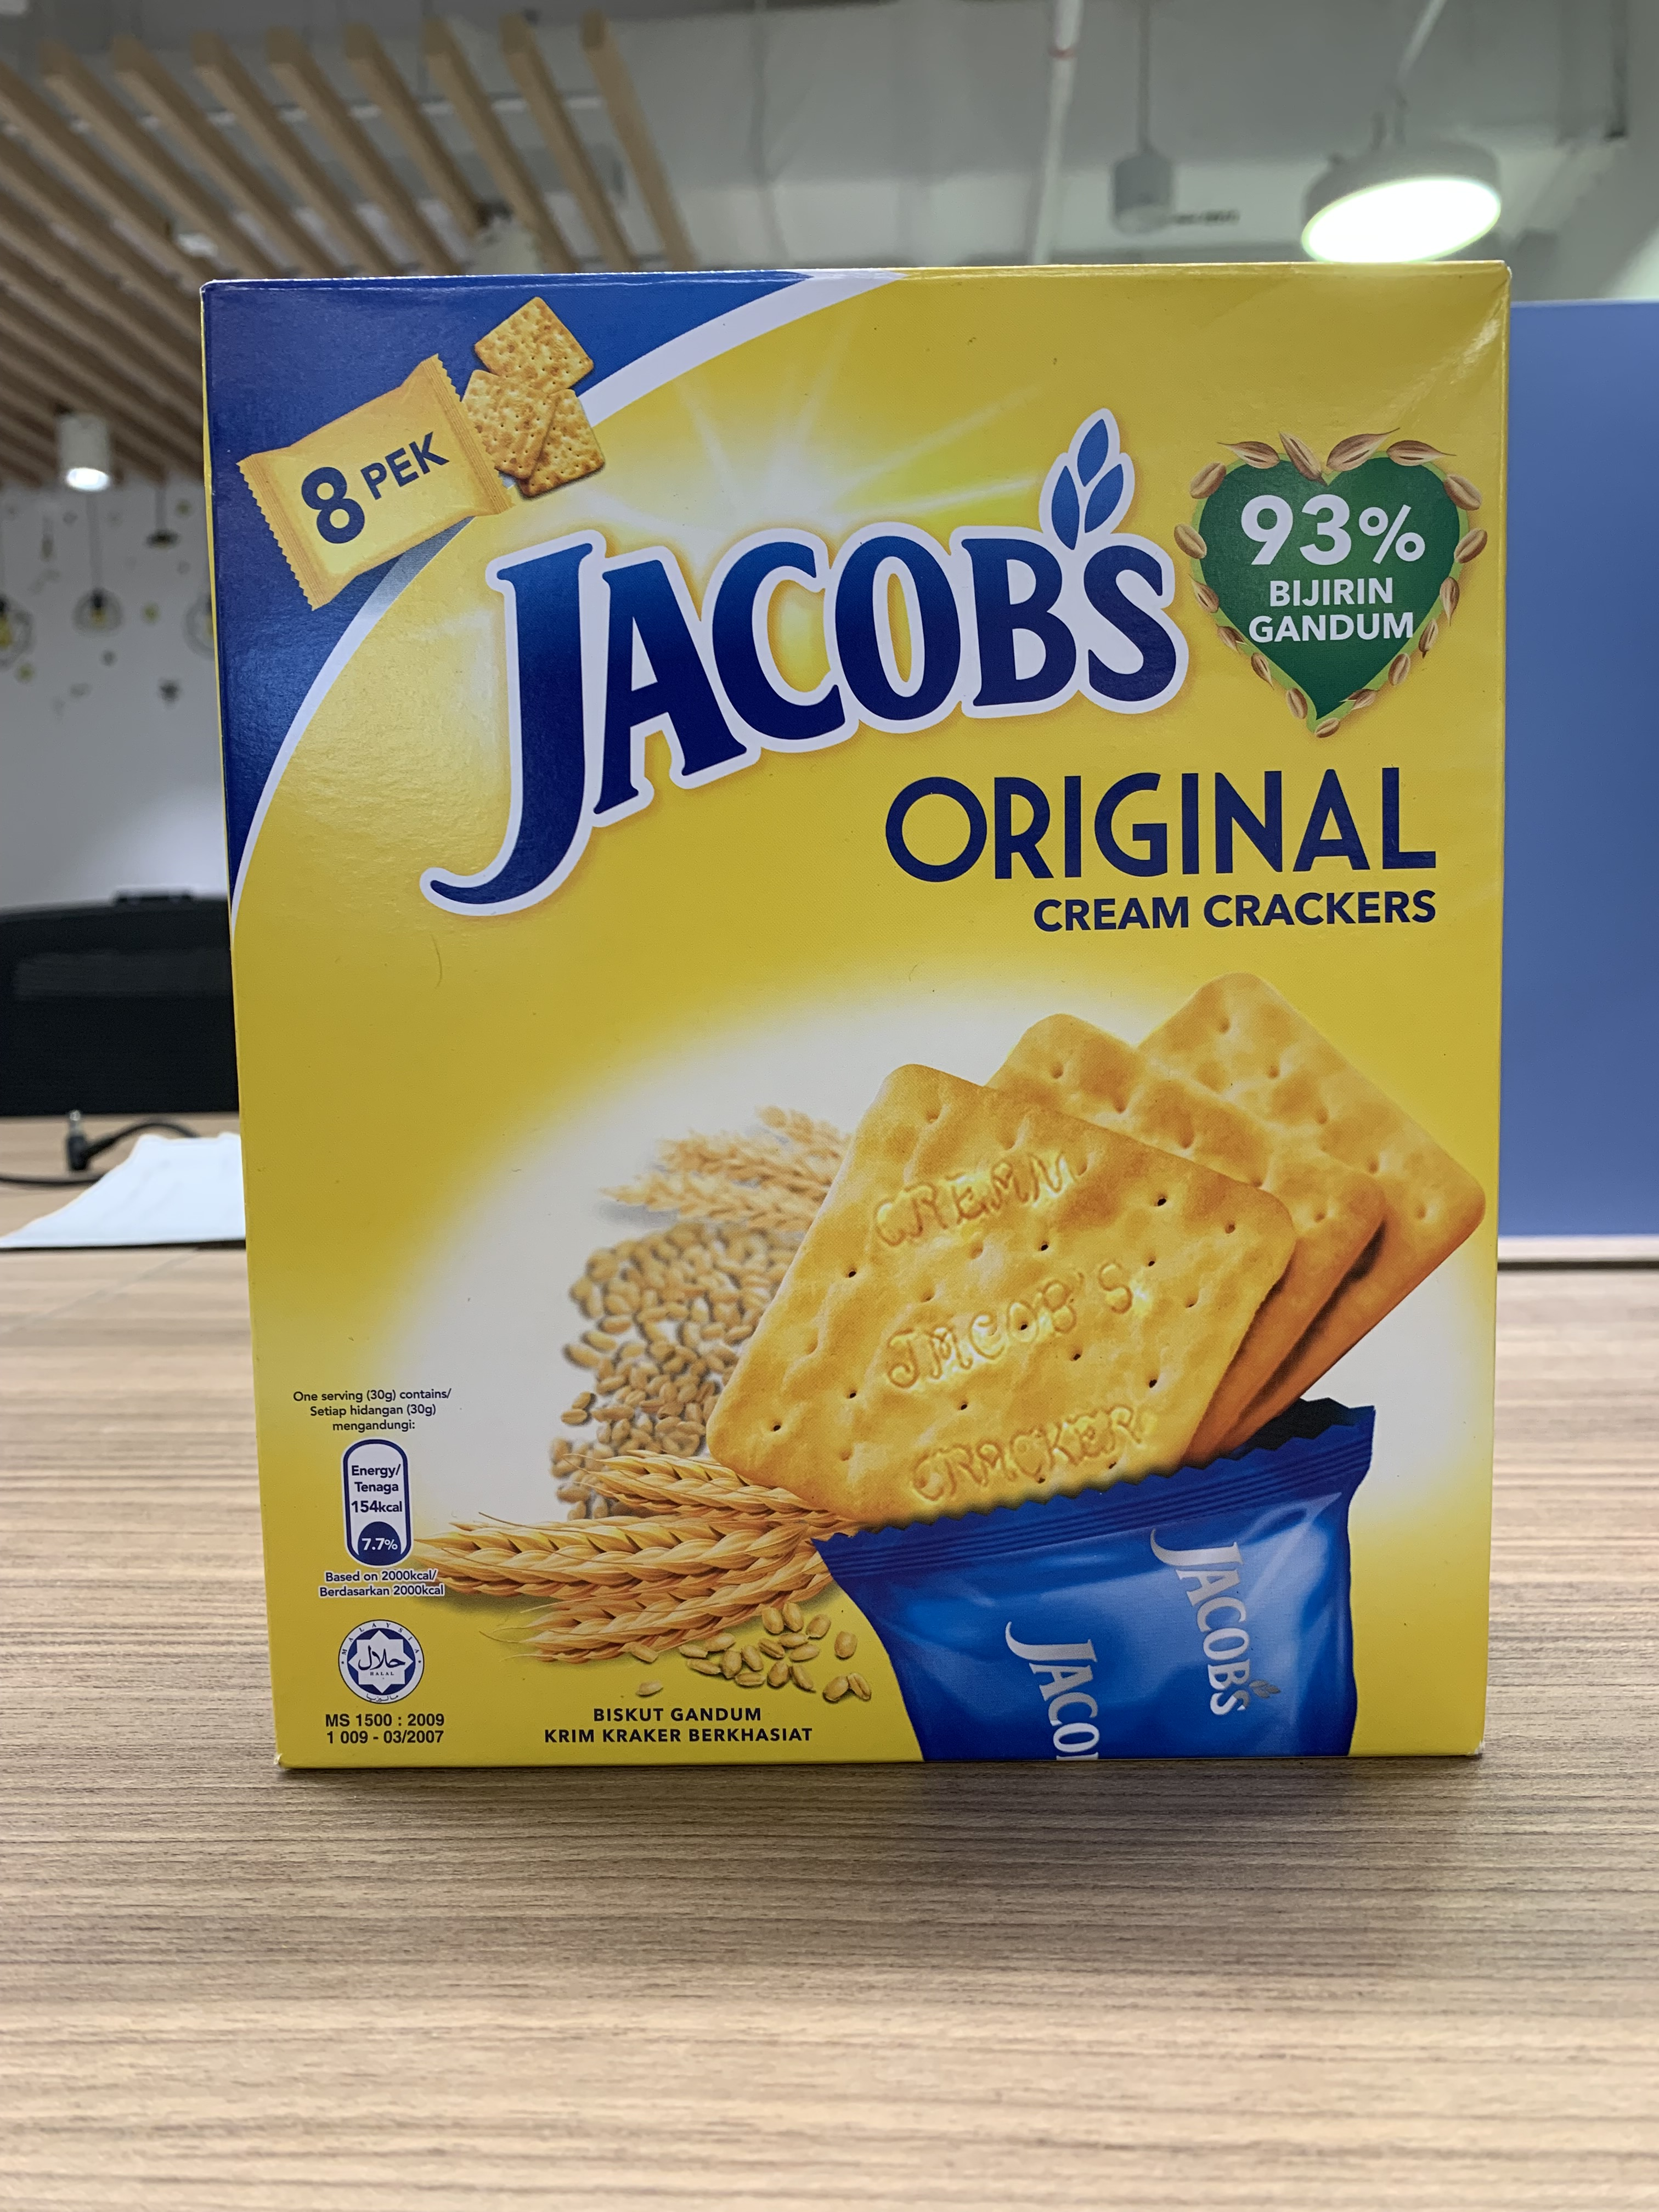crackers_200g-299g: (239, 284, 1500, 1757)
